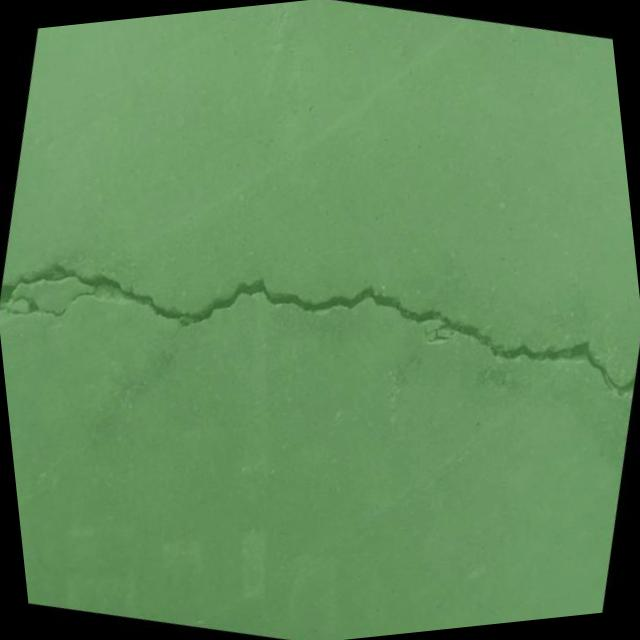crack: (0, 168, 640, 469)
